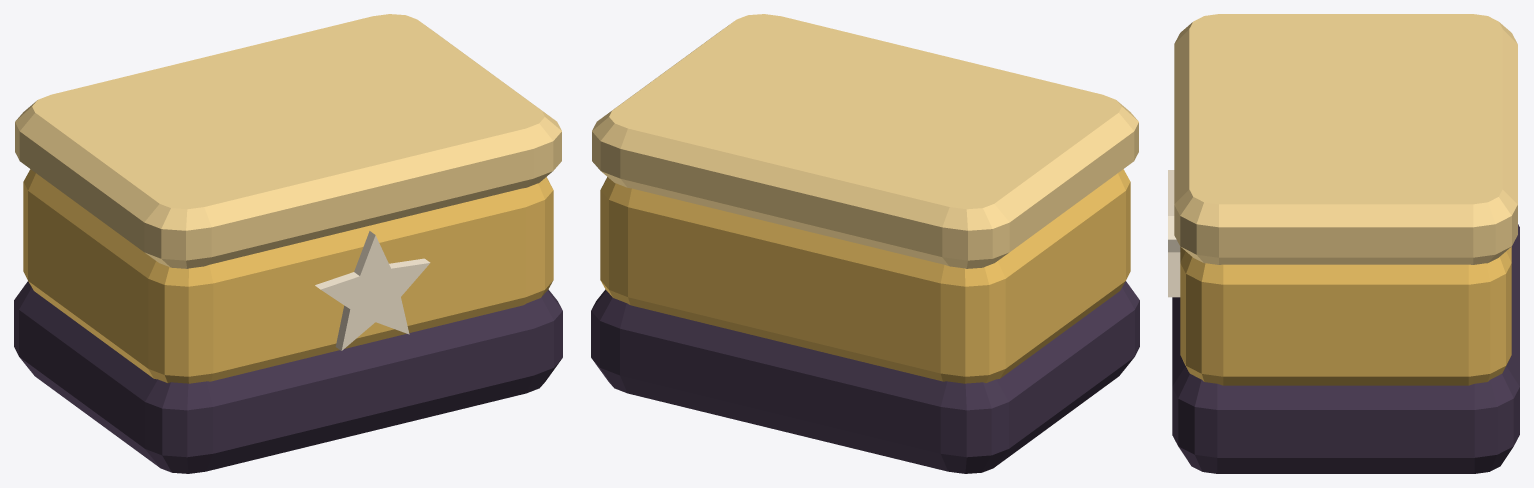
File: podium_1.glb
3 views of the same model, side by side, from view 1: azimuth 30°, elevation 25°; view 2: azimuth 150°, elevation 25°; view 3: azimuth 270°, elevation 25° (orthographic). The views are drawn at different scales.
Visible parts, largest first — view 1: model; view 2: model; view 3: model.
Part boxes in pixels (box(x1,y1,x2,y2)): model: box(14, 14, 562, 473); model: box(591, 14, 1139, 473); model: box(1168, 14, 1519, 473).
Size of the model in its own units: 1.8 by 1.1 by 1.3.
